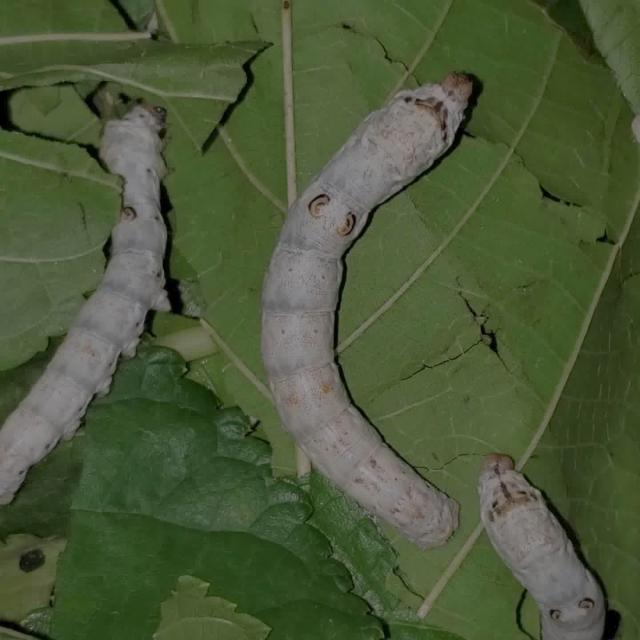Healthy: (239, 46, 629, 640), (0, 69, 192, 512)
